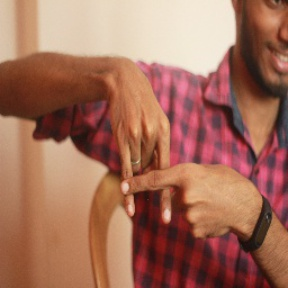H: (102, 119, 197, 228)
